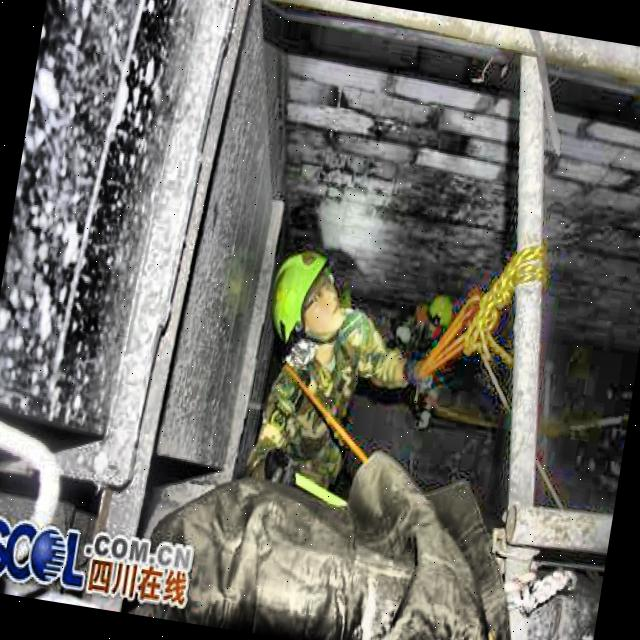helmet: (266, 246, 354, 350)
